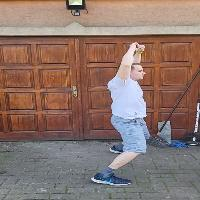jumping_jacks: (81, 31, 157, 196)
